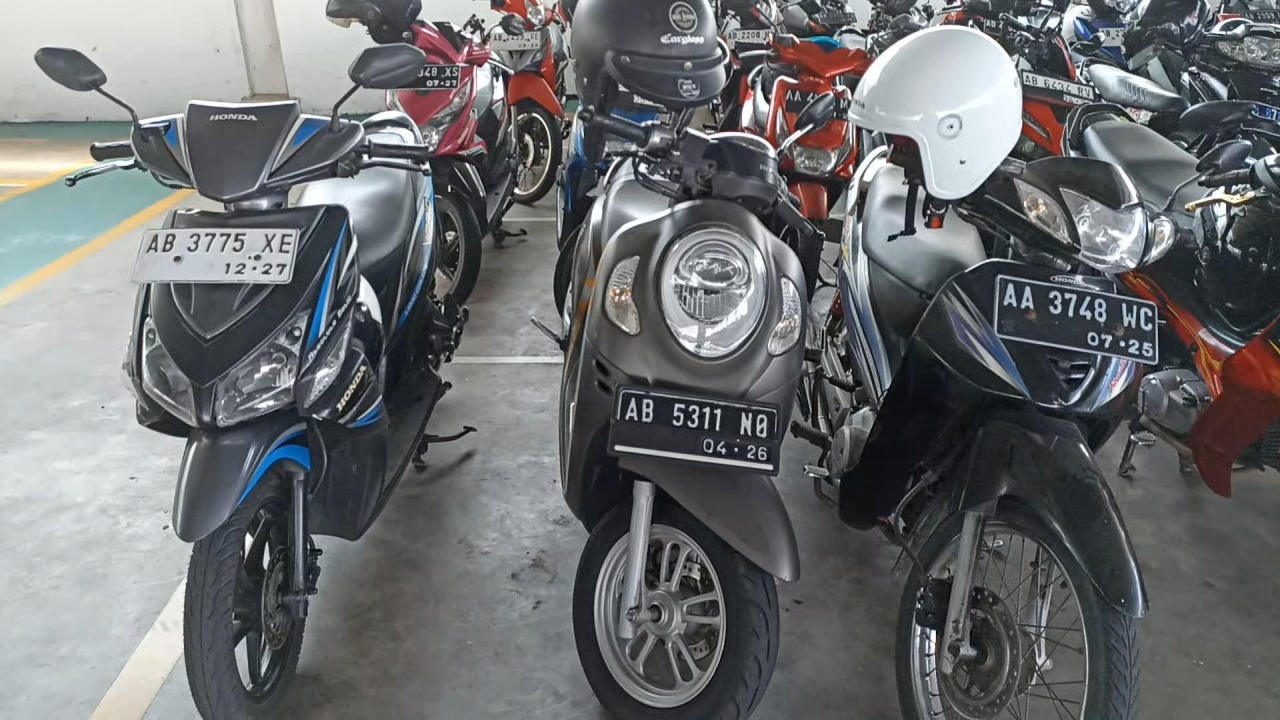plate: (994, 275, 1158, 364), (613, 388, 778, 472), (131, 229, 299, 283)
